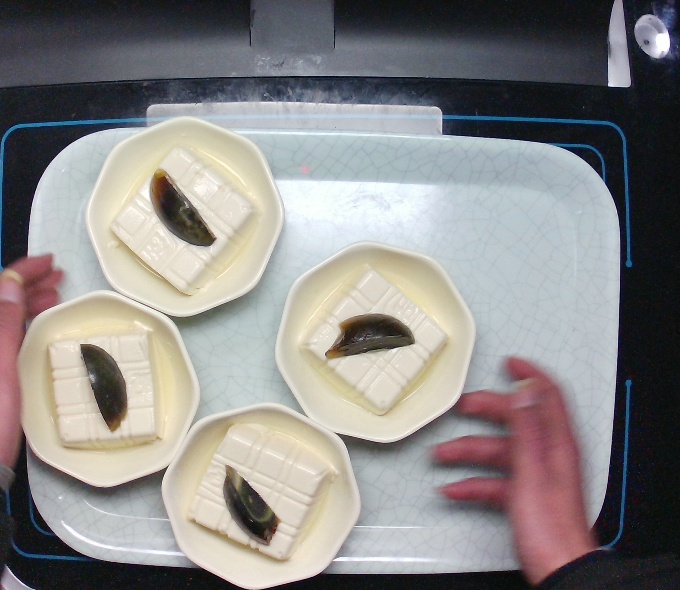wcq-PiDanDouFu: (295, 260, 454, 421), (106, 139, 260, 299), (187, 421, 341, 563), (46, 325, 170, 454)
